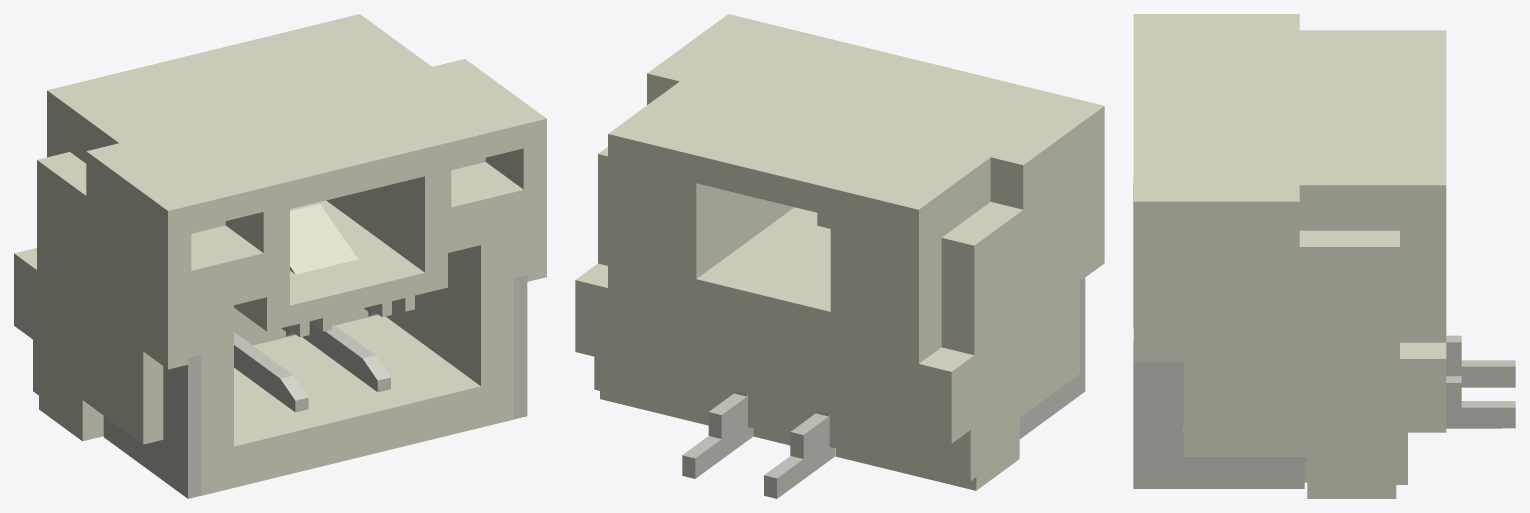
File: kc-jst_gh_sm02b-ghs-tb_1x02-1mp_p1.25mm_horizontal.glb
3 renders of one model, left to right at view 1: azimuth 30°, elevation 25°; view 2: azimuth 150°, elevation 25°; view 3: azimuth 270°, elevation 25°, orthographic. The views are drawn at different scales.
Visible parts, largest first — view 1: 0.75_0.75_0.5833333333333334_0, 0.6666666666666666_0.6666666666666666_0.5833333333333334_0.8; view 2: 0.75_0.75_0.5833333333333334_0, 0.6666666666666666_0.6666666666666666_0.5833333333333334_0.8; view 3: 0.75_0.75_0.5833333333333334_0, 0.6666666666666666_0.6666666666666666_0.5833333333333334_0.8.
Part boxes in pixels (left/top/right/bottom): 0.75_0.75_0.5833333333333334_0: left=14, top=14, right=546, bottom=495; 0.6666666666666666_0.6666666666666666_0.5833333333333334_0.8: left=103, top=275, right=527, bottom=498; 0.75_0.75_0.5833333333333334_0: left=575, top=14, right=1104, bottom=490; 0.6666666666666666_0.6666666666666666_0.5833333333333334_0.8: left=682, top=278, right=1085, bottom=498; 0.75_0.75_0.5833333333333334_0: left=1133, top=14, right=1446, bottom=498; 0.6666666666666666_0.6666666666666666_0.5833333333333334_0.8: left=1133, top=177, right=1515, bottom=488.
Size of the model in its own units: 0.575 by 0.425 by 0.4951.
